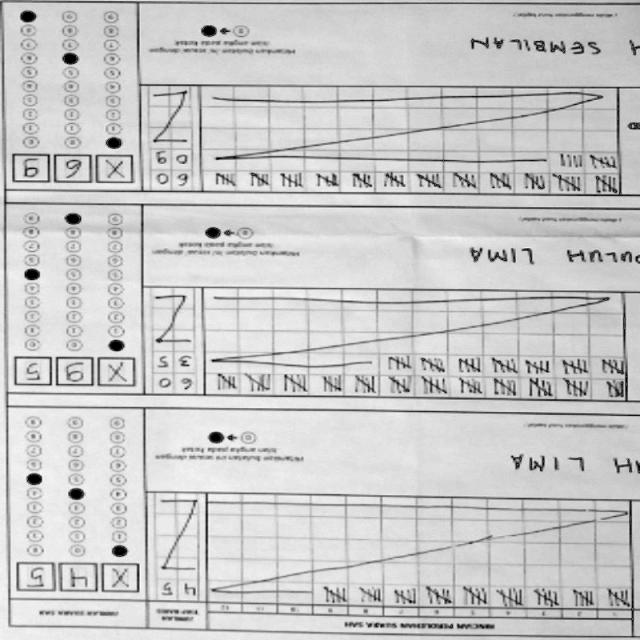Suara: (15, 560, 143, 599), (14, 356, 140, 390), (10, 154, 136, 188)
